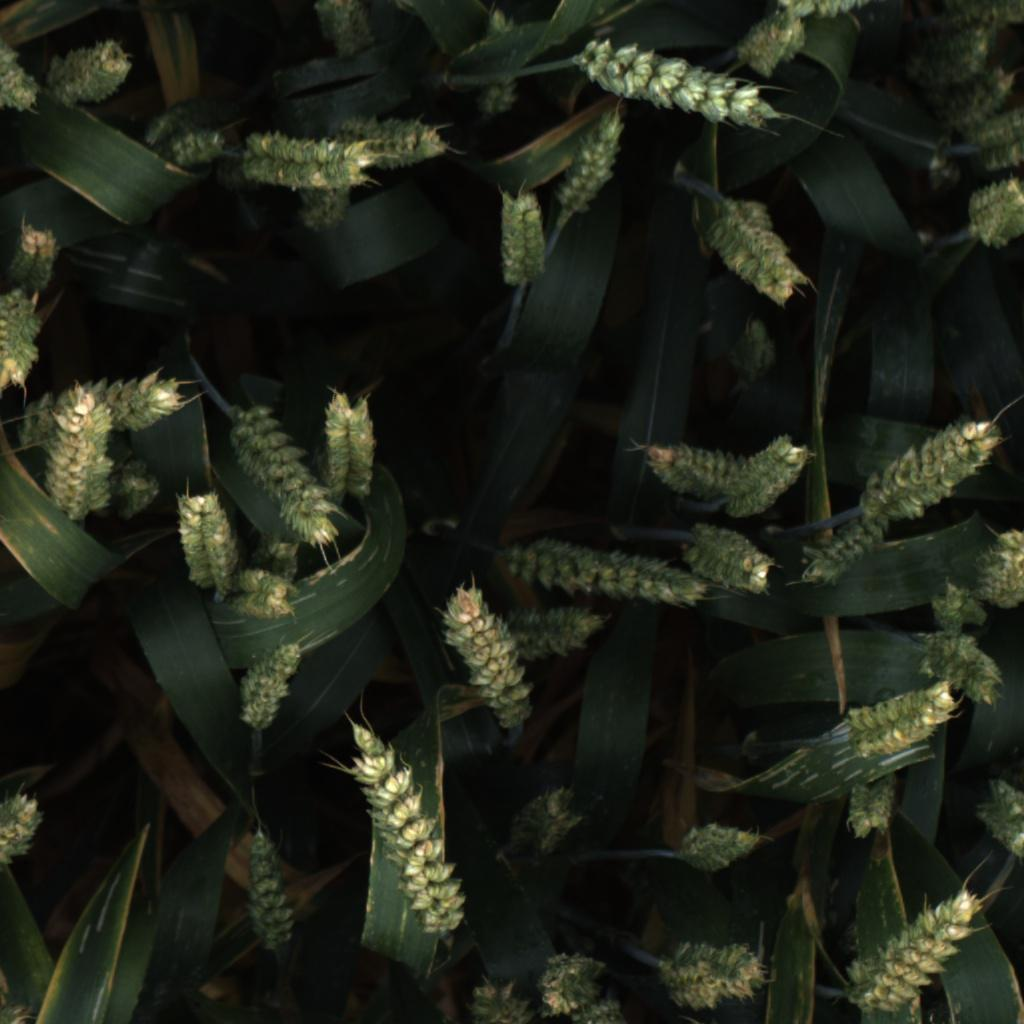0-0: (346, 709, 474, 943), (567, 36, 786, 136), (844, 881, 985, 1021), (501, 530, 710, 616), (233, 395, 346, 552), (856, 413, 1005, 531), (438, 577, 539, 731), (31, 389, 117, 537), (704, 195, 811, 309), (42, 365, 193, 435), (841, 676, 957, 763), (907, 626, 1012, 718), (560, 106, 641, 223), (243, 130, 380, 199), (236, 822, 306, 955), (720, 431, 819, 525), (166, 479, 241, 600), (658, 937, 771, 1014), (794, 509, 894, 592), (683, 518, 777, 606), (322, 380, 386, 506), (336, 110, 463, 173), (623, 431, 732, 501), (233, 637, 305, 734), (494, 180, 555, 294), (44, 29, 130, 109), (511, 599, 615, 661), (674, 814, 765, 881), (530, 938, 608, 1014), (941, 62, 1016, 139), (506, 783, 580, 860), (953, 173, 1024, 251), (745, 0, 811, 79), (0, 790, 50, 893), (717, 313, 783, 391), (227, 567, 308, 629), (914, 29, 995, 91), (971, 775, 1024, 864), (836, 775, 903, 844), (303, 0, 375, 63), (2, 218, 60, 294), (109, 448, 169, 521), (293, 177, 360, 241), (461, 973, 542, 1024), (0, 293, 40, 392), (928, 576, 990, 639), (0, 23, 40, 120), (158, 116, 224, 173), (981, 522, 1024, 607), (476, 61, 530, 120), (961, 104, 1024, 153), (253, 533, 308, 589), (17, 391, 63, 455), (938, 0, 1024, 32), (544, 994, 631, 1024), (778, 0, 902, 21), (980, 133, 1024, 174), (480, 5, 521, 46), (0, 996, 42, 1024)
